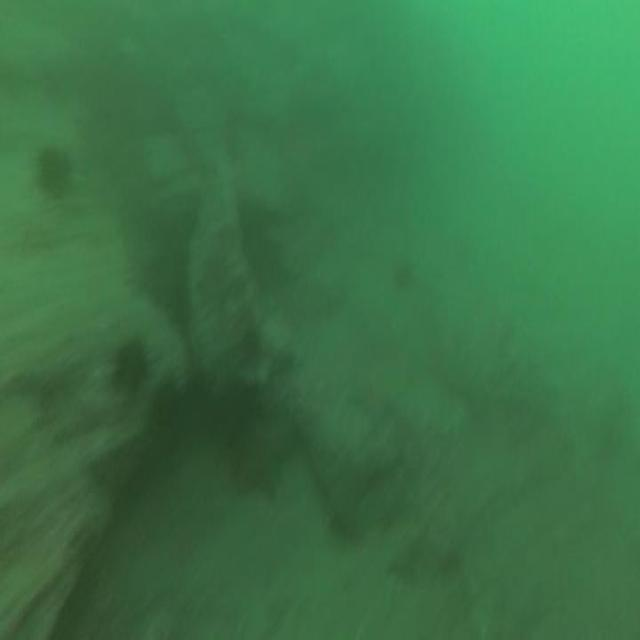echinus: (114, 336, 146, 388), (36, 147, 70, 191)
starfish: (235, 406, 292, 498), (348, 368, 398, 427)
